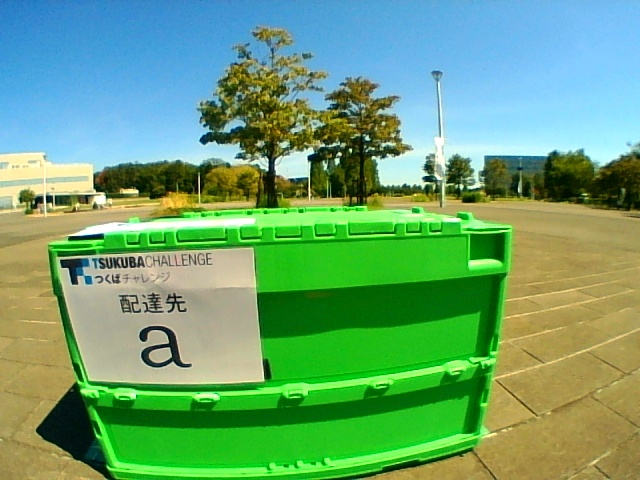green_box: (49, 205, 514, 479)
tag_a: (90, 258, 251, 379)
